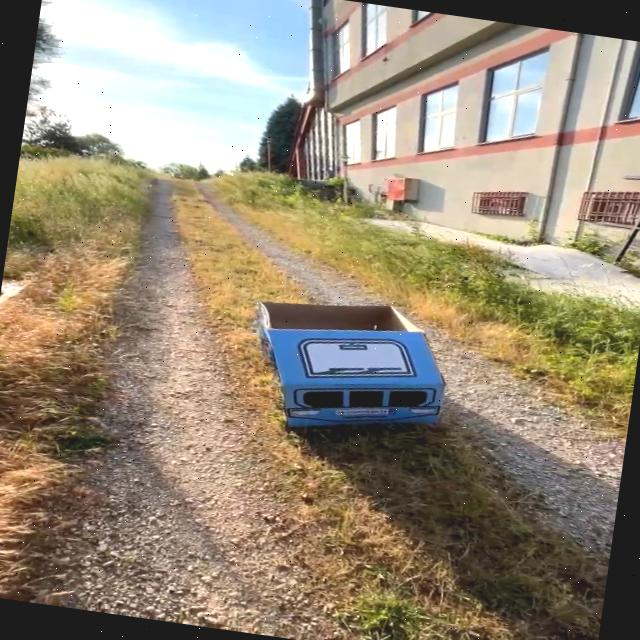blue_car: (184, 261, 520, 494)
